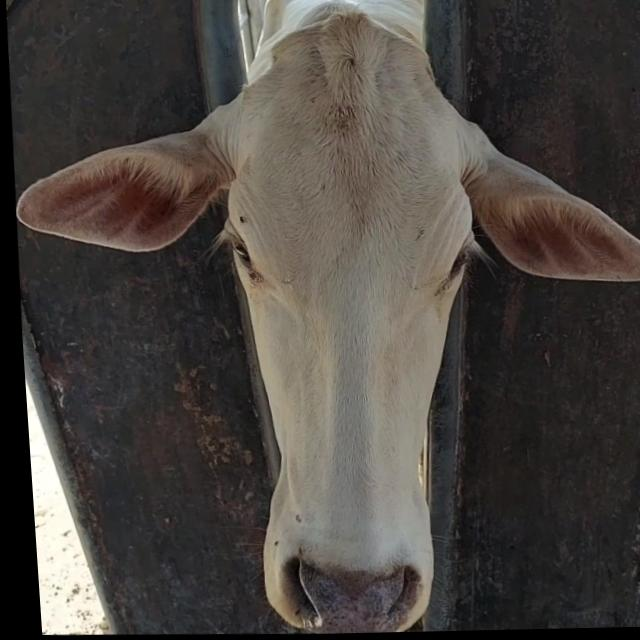cowFace: (199, 18, 491, 637)
